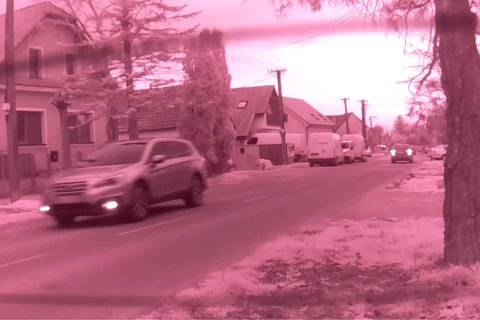car: (36, 138, 214, 223), (389, 142, 416, 165)
